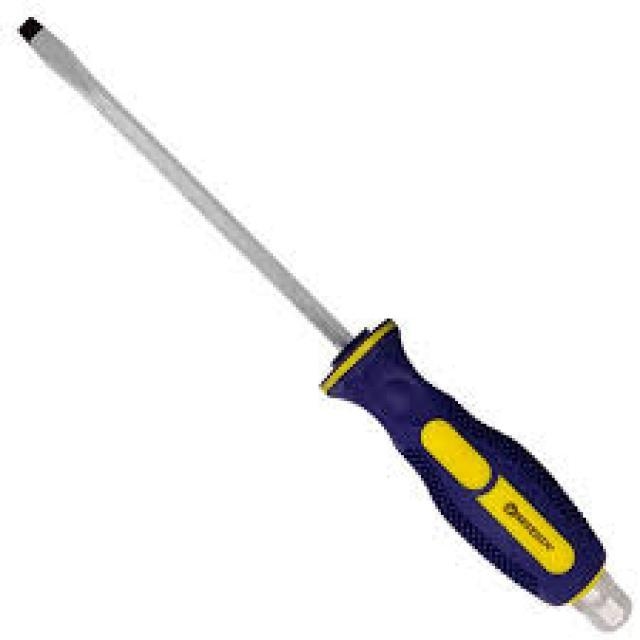screwdriver: (11, 14, 634, 637)
